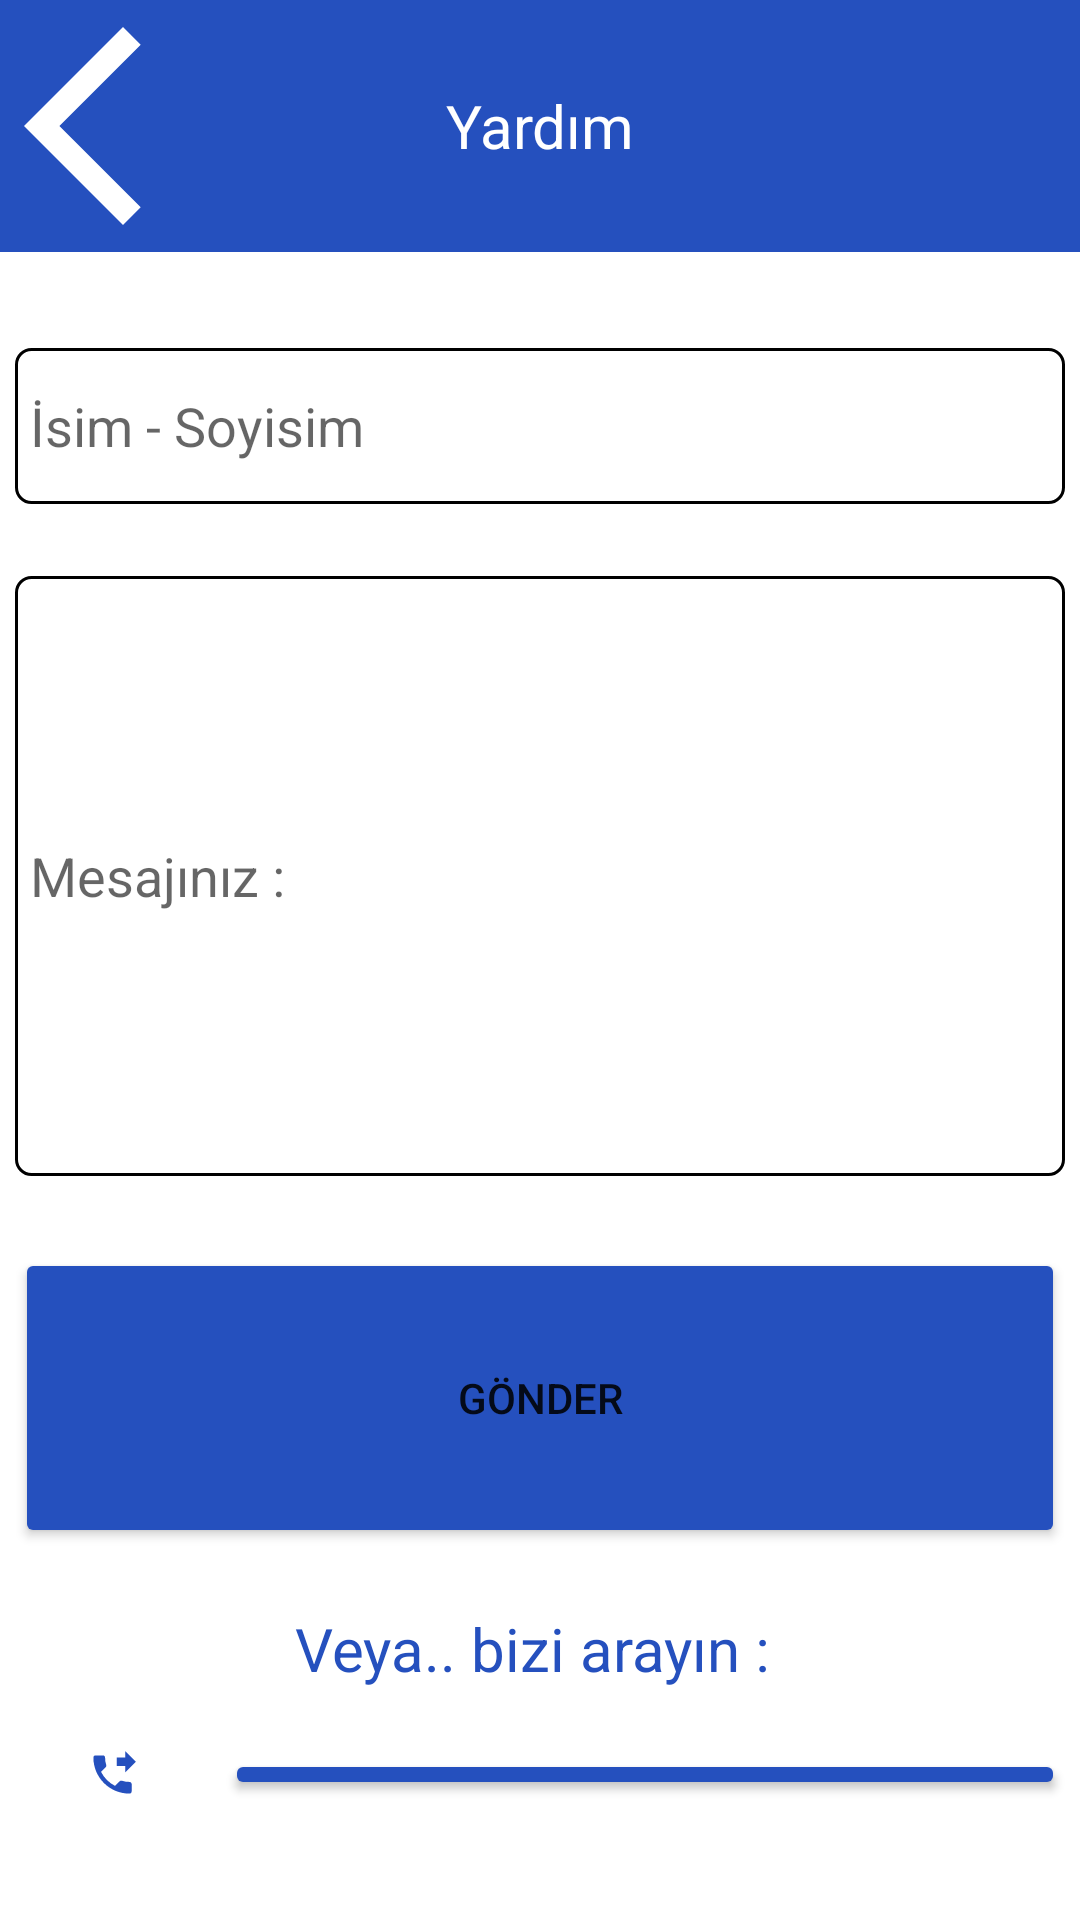

Where icons sit on this 1080px x 1920px app screen, as {"left": x1, "top": y1, "right": x2, "bottom": y2}:
arrow back: {"left": 24, "top": 27, "right": 141, "bottom": 225}
phone forwarded: {"left": 93, "top": 1751, "right": 136, "bottom": 1794}
